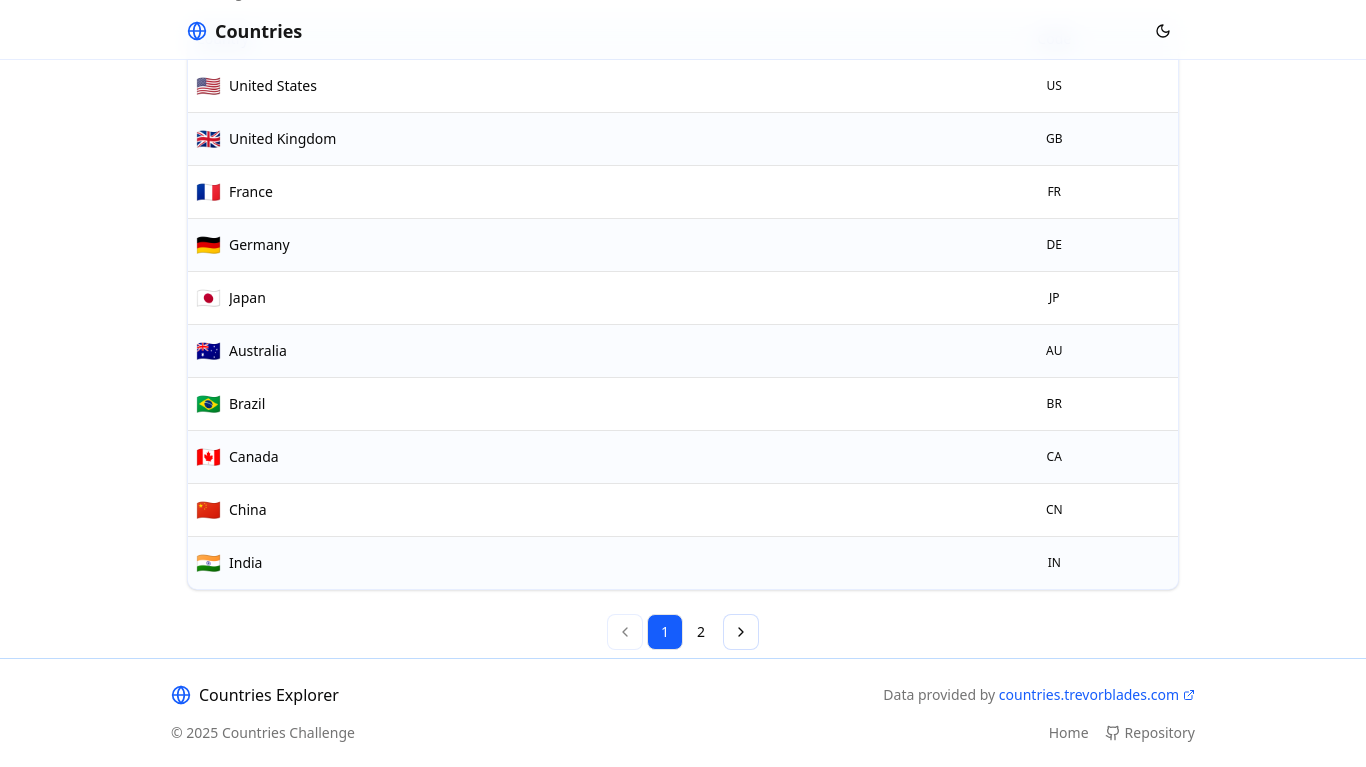
CountriesPage › pagination works correctly
(page scrolled)
Note: Navigate to page 2
Click the link "2" at (701, 631), box [697,622,705,640]
(page scrolled)
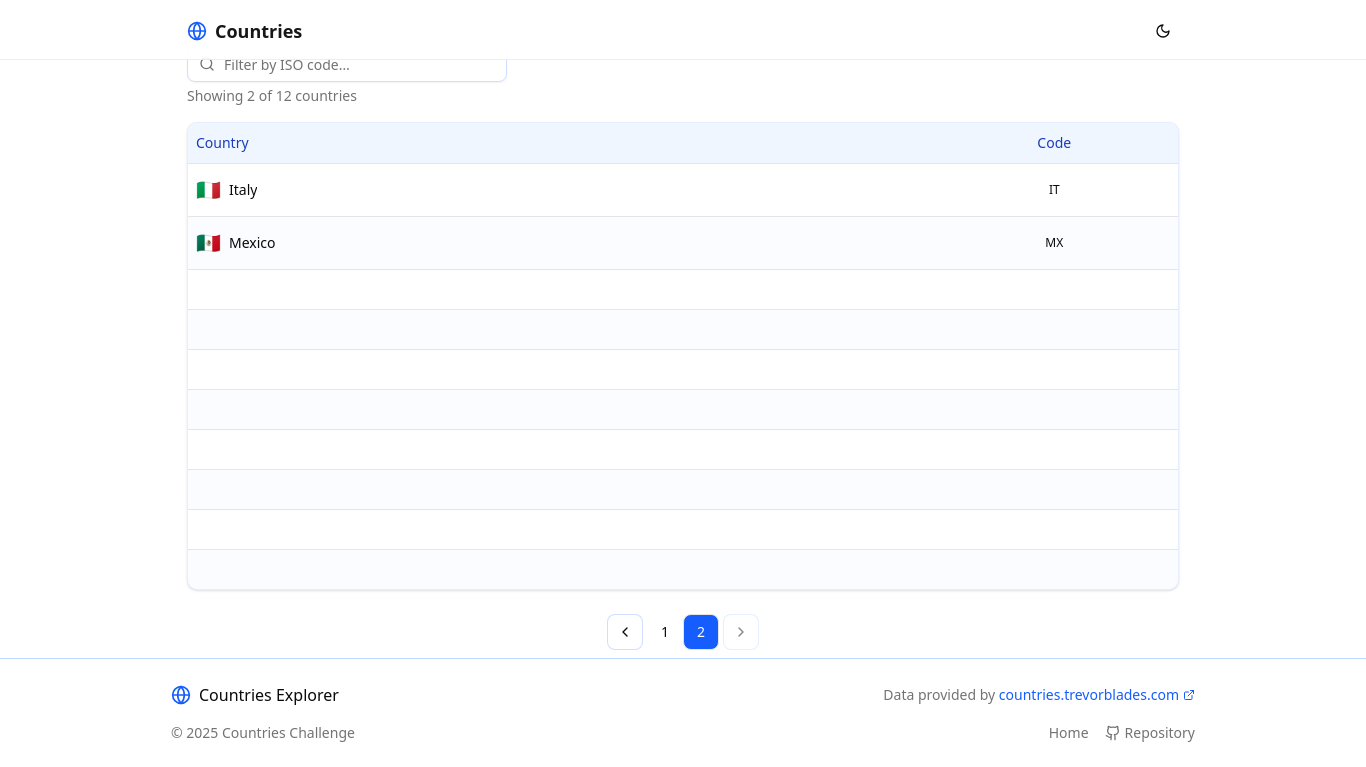
Expected: the text "United States" is not shown
